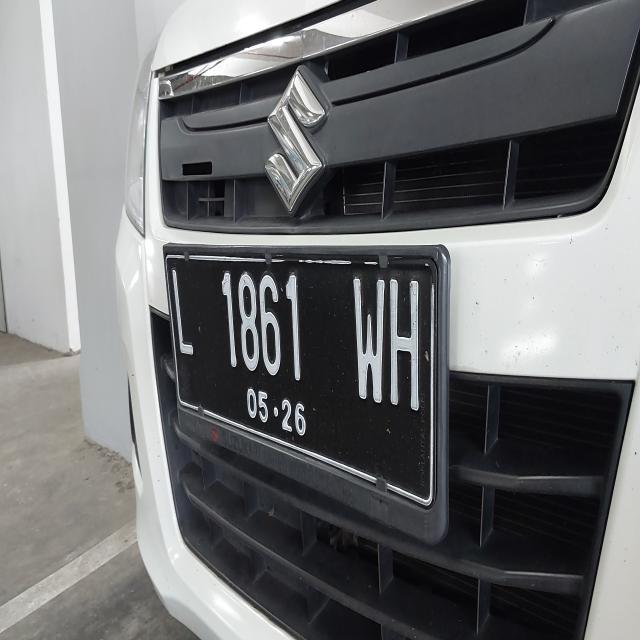1: (284, 270, 305, 386), (218, 268, 237, 374)
6: (259, 268, 284, 378)
8: (237, 272, 260, 378)
H: (388, 268, 424, 423)
L: (166, 261, 196, 362)
W: (350, 274, 388, 406)
